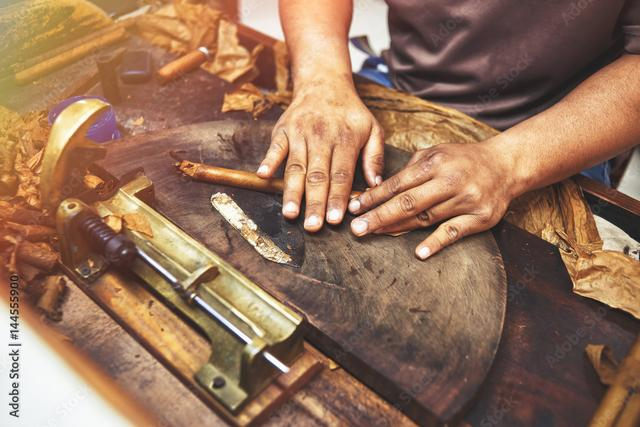Cigar: (13, 4, 152, 86), (172, 157, 364, 203), (585, 333, 639, 426), (156, 44, 210, 83)
